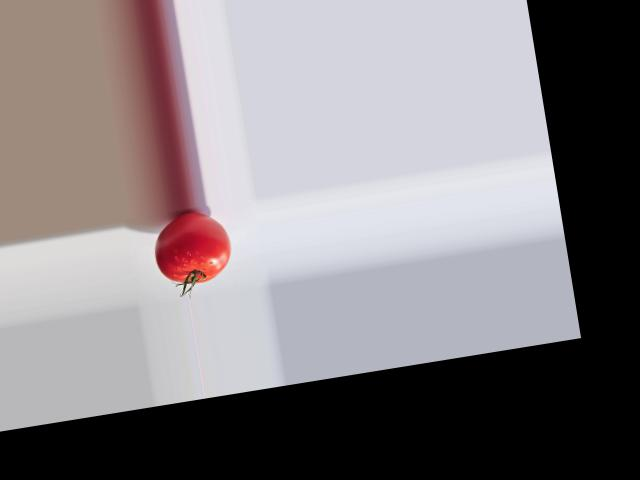tomato: (149, 206, 236, 287)
